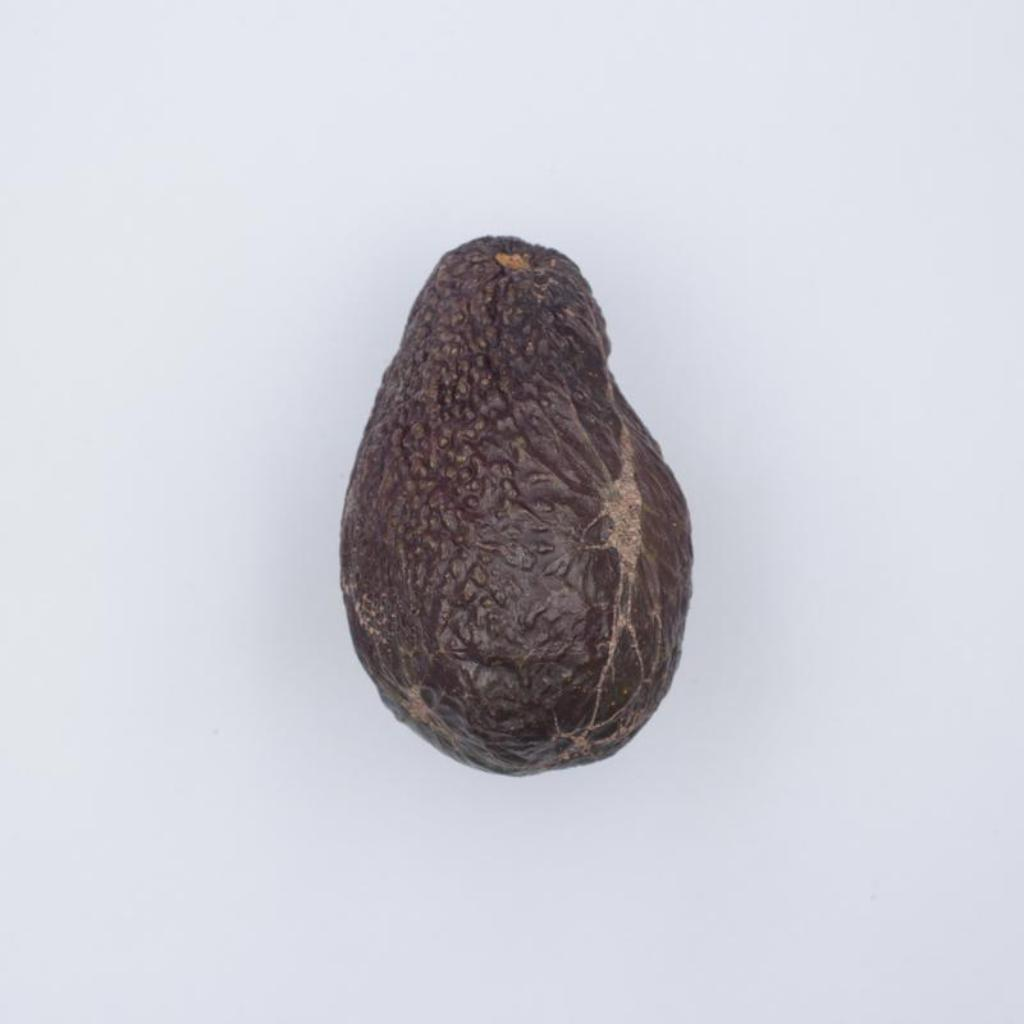rona: (340, 237, 691, 774)
